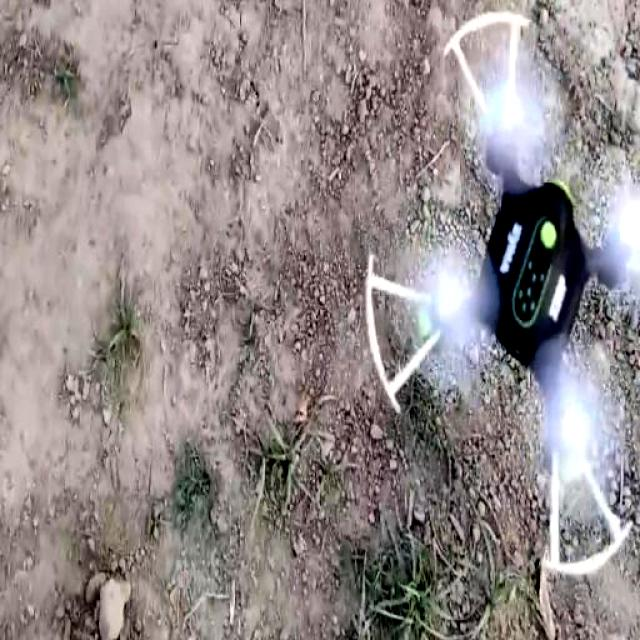bird: (362, 0, 640, 591)
